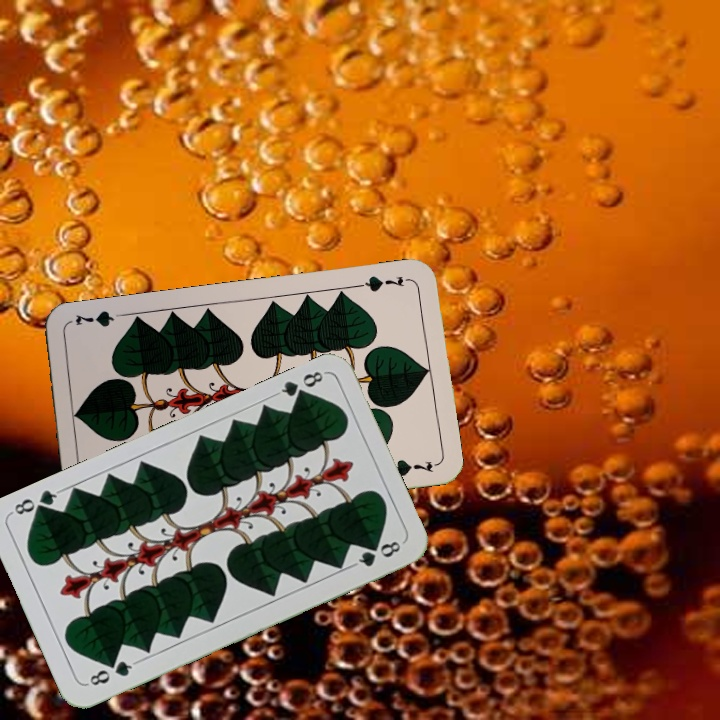G7: (354, 272, 414, 294)
G8: (271, 367, 328, 404), (83, 656, 139, 688)
